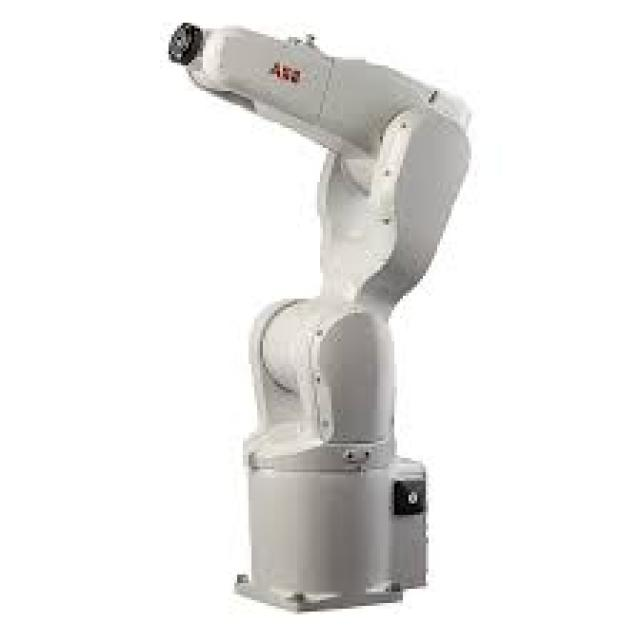Robotic-arm: (160, 8, 493, 623)
